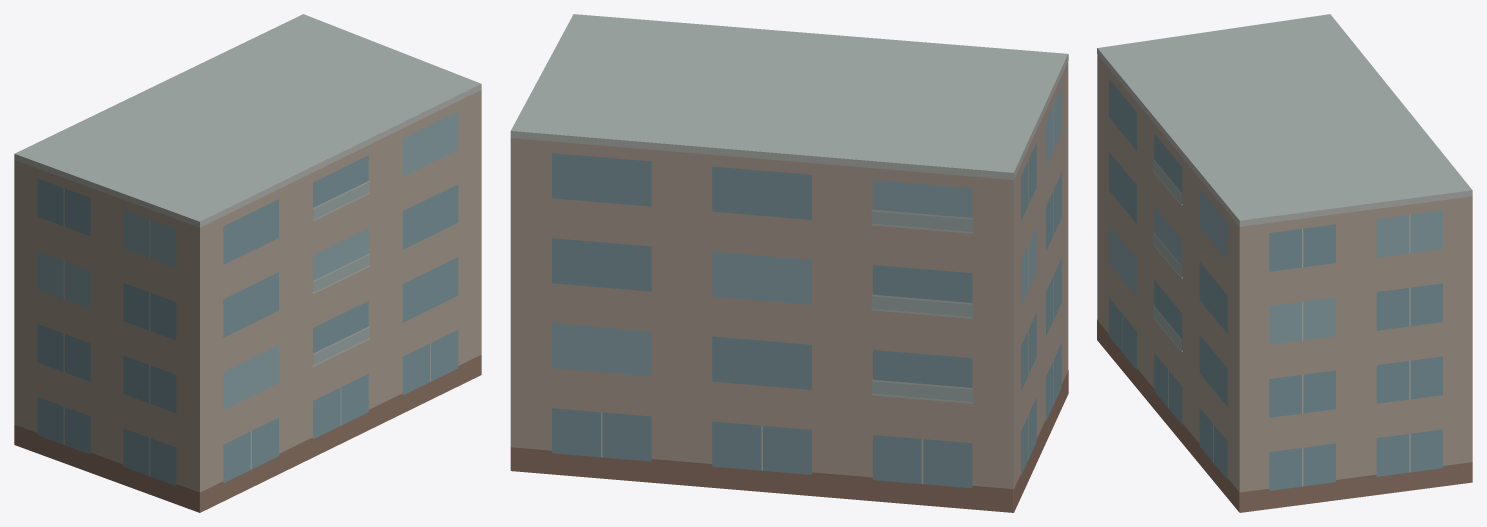
The model's file is survey-upis-32787805.glb.
The picture shows the model from 3 angles, left to right: view 1: azimuth 30°, elevation 25°; view 2: azimuth 150°, elevation 25°; view 3: azimuth 270°, elevation 25°; orthographic projection. The views are drawn at different scales.
Parts seen in each view (by area): view 1: survey-upis-32787805.tmp; view 2: survey-upis-32787805.tmp; view 3: survey-upis-32787805.tmp.
Part boxes in pixels (x1,y1,x2,y2): survey-upis-32787805.tmp: (14, 14, 481, 512); survey-upis-32787805.tmp: (510, 14, 1068, 512); survey-upis-32787805.tmp: (1097, 14, 1472, 512).
Size of the model in its own units: 17.76 by 11.7 by 13.63.
